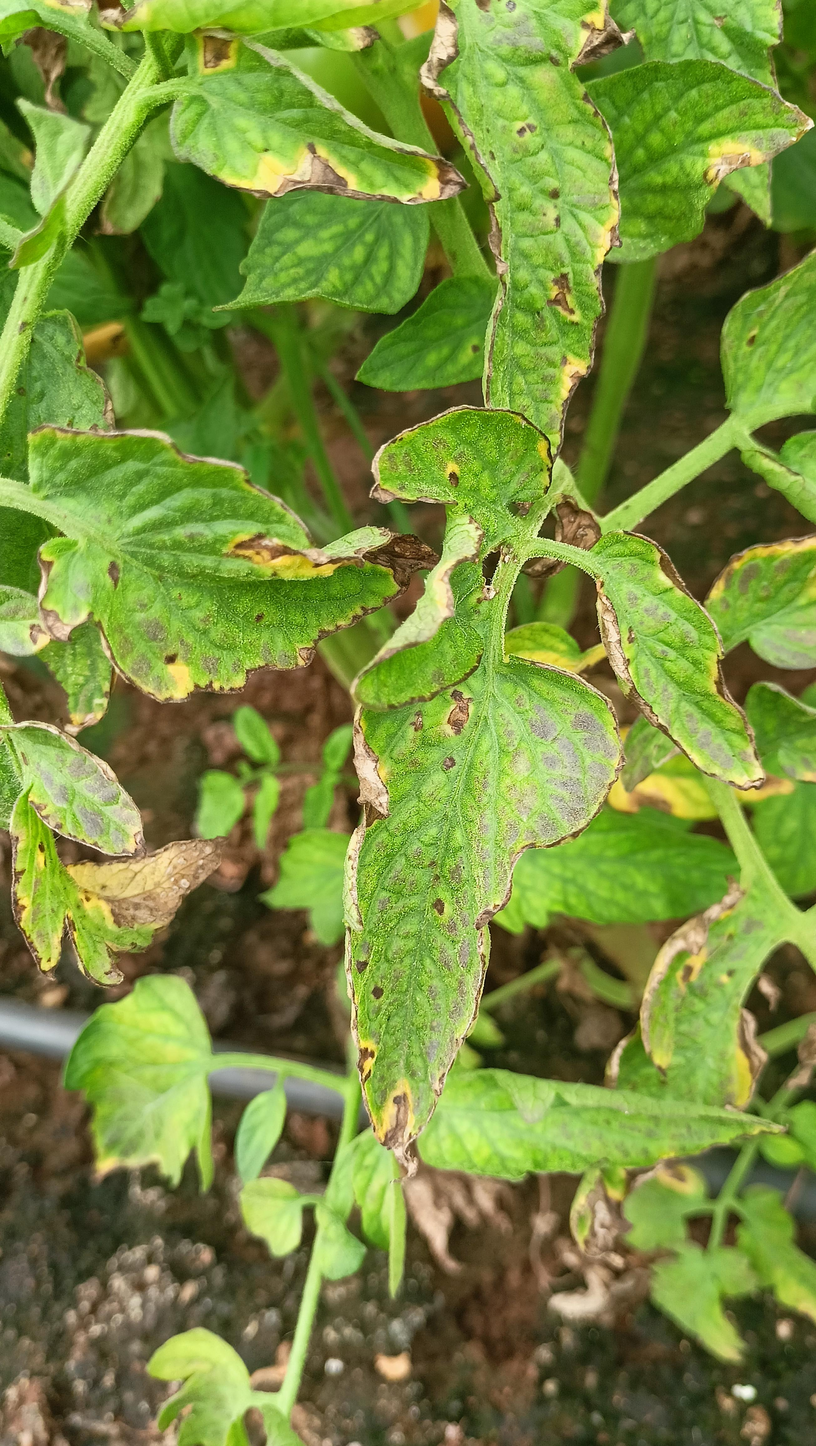Early Blight: (330, 520, 628, 1174), (20, 412, 446, 702), (413, 0, 657, 459), (0, 715, 230, 992), (165, 19, 473, 213), (582, 49, 816, 267), (588, 527, 769, 793)
